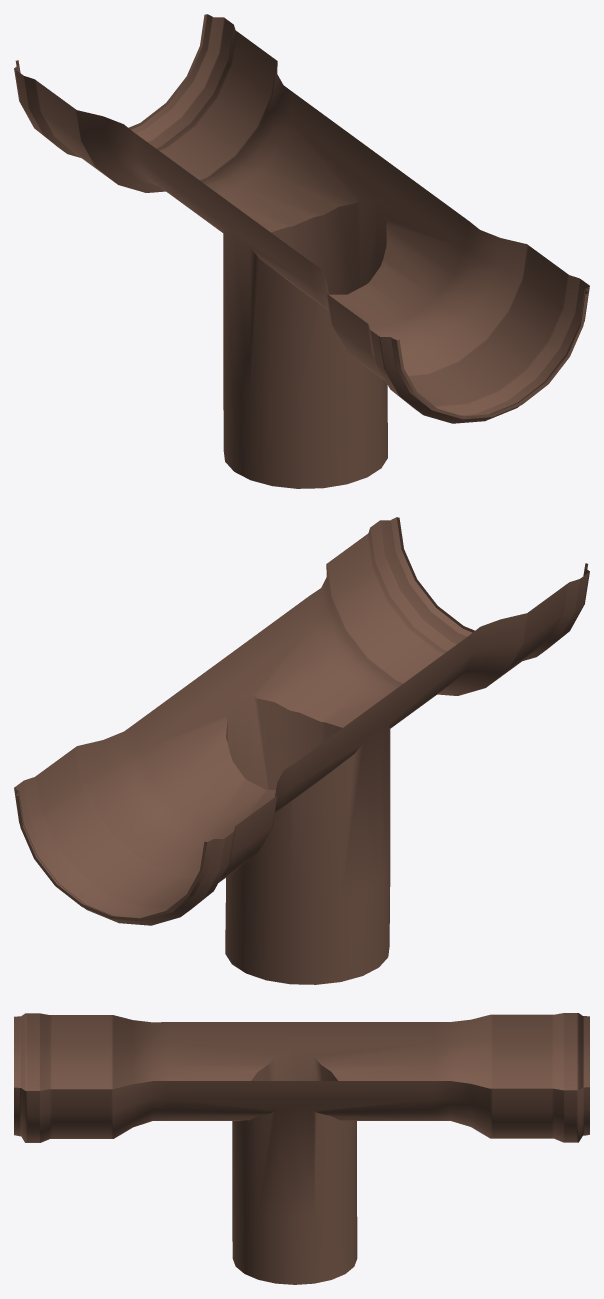
Rendered from Pipes_Mid_Unit.fbx.
The picture shows the model from 3 angles, top to bottom: view 1: azimuth 30°, elevation 25°; view 2: azimuth 150°, elevation 25°; view 3: azimuth 270°, elevation 25°; orthographic projection. The views are drawn at different scales.
Parts seen in each view (by area): view 1: pCylinder27; view 2: pCylinder27; view 3: pCylinder27.
Part boxes in pixels (x1,y1,x2,y2): pCylinder27: (14,14,589,488); pCylinder27: (14,517,589,984); pCylinder27: (14,1013,589,1284).
Bounding box in the file's own units: 0.2171 × 0.2711 × 0.6825.
